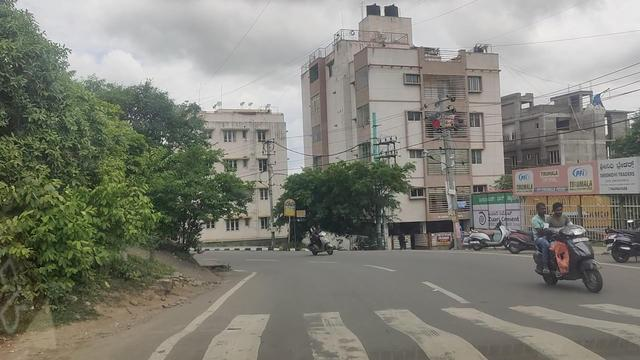LMV: (527, 202, 601, 293)
SpeedBump: (195, 294, 640, 360)
